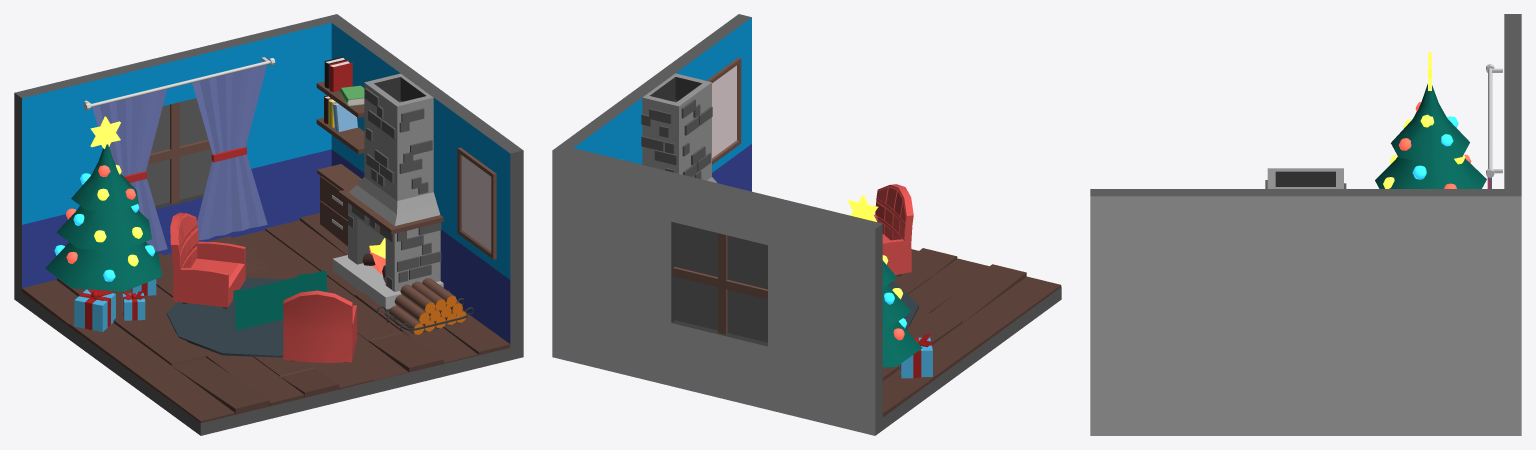
The model's file is christmas_Pair1_TWEAKED_table.glb.
3 renders of one model, left to right at view 1: azimuth 30°, elevation 25°; view 2: azimuth 150°, elevation 25°; view 3: azimuth 270°, elevation 25°, orthographic. The views are drawn at different scales.
Visible parts, largest first — view 1: Room, Floor, Fireplace, Christmas_tree, Curtain2, Chair1, Chair2, Curtain1, Rug, Glass, Picture, CenterTable (+10 smaller); view 2: Room, Floor, Glass, Fireplace, Christmas_tree, Chair2, Picture, Window, Present1; view 3: Room, Christmas_tree, Fireplace, Curtain_rod_Material #246_0.
Part boxes in pixels (x1,y1,x2,y2): Room: (14,14,523,435); Floor: (22,213,510,422); Fireplace: (332,73,443,309); Christmas_tree: (45,116,162,298); Curtain2: (192,64,267,240); Chair1: (170,212,245,308); Chair2: (283,290,356,362); Curtain1: (92,89,167,251); Rug: (166,277,343,357); Glass: (146,98,212,205); Picture: (457,147,496,259); CenterTable: (233,270,326,330); Room: (552,14,1061,435); Floor: (882,248,1061,417); Glass: (674,222,767,342); Fireplace: (641,73,716,182); Christmas_tree: (848,195,922,367); Chair2: (874,184,913,276); Picture: (706,57,741,164); Window: (673,233,767,334); Present1: (899,334,932,378); Room: (1090,14,1521,435); Christmas_tree: (1375,52,1486,188); Fireplace: (1265,168,1346,188); Curtain_rod_Material #246_0: (1486,64,1502,177).
Bounding box in the file's own units: 400 × 290 × 400.
Materials: 2 (1 with a texture image).
